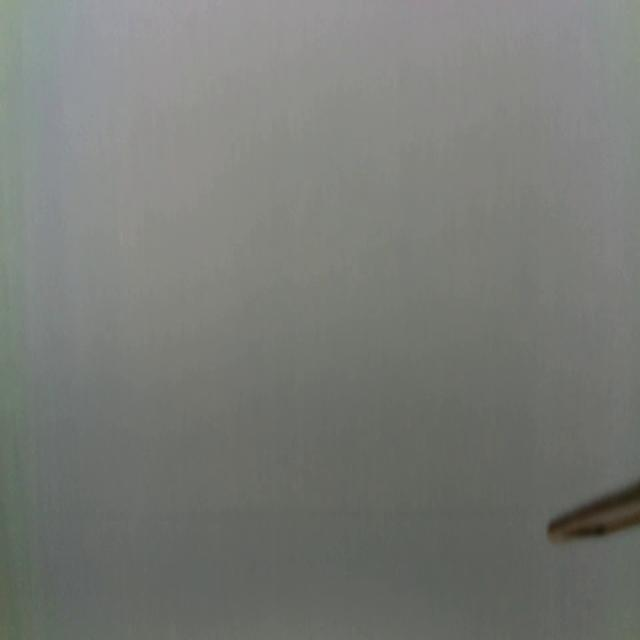color bleeding: (28, 500, 536, 534)
